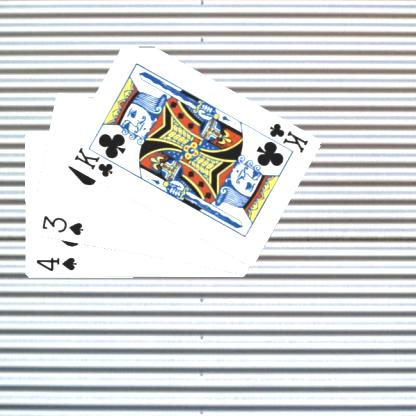3S: (38, 213, 84, 238)
4S: (32, 255, 78, 273)
KC: (257, 119, 309, 156), (70, 144, 122, 179)
